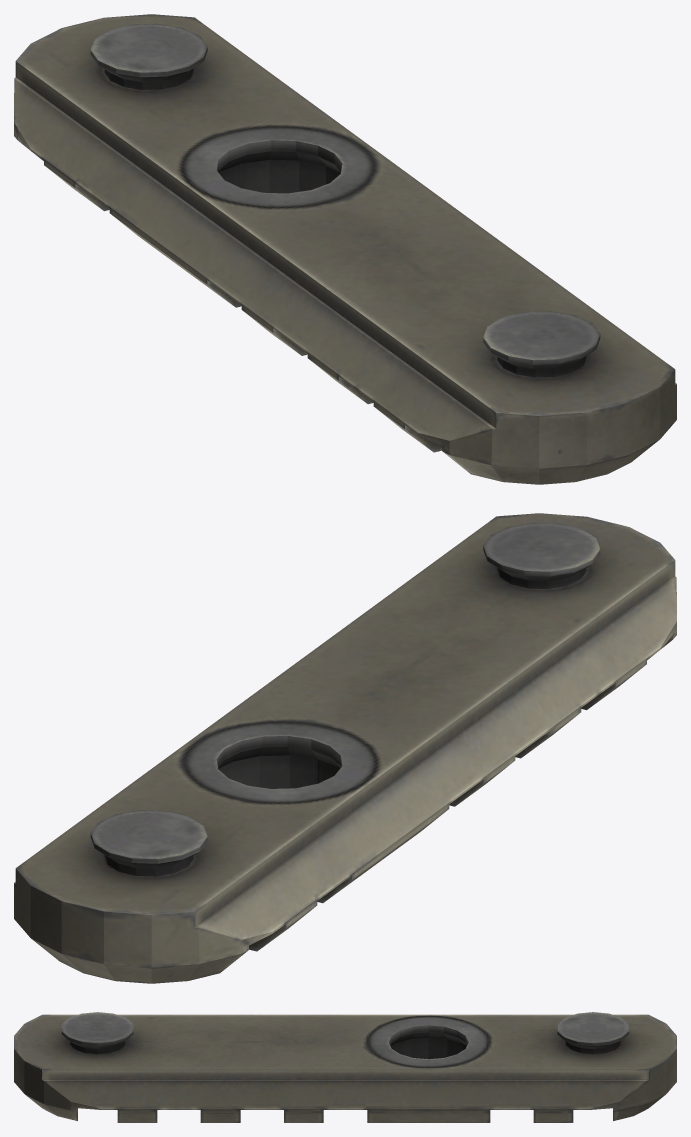
3 views of the same model, one above another, from view 1: azimuth 30°, elevation 25°; view 2: azimuth 150°, elevation 25°; view 3: azimuth 270°, elevation 25° (orthographic). The views are drawn at different scales.
Visible parts, largest first — view 1: TW_623c2f652febb22c2777d8d7_PZ_Import; view 2: TW_623c2f652febb22c2777d8d7_PZ_Import; view 3: TW_623c2f652febb22c2777d8d7_PZ_Import.
Boxes of the visible parts, left/top/right/bottom form: TW_623c2f652febb22c2777d8d7_PZ_Import: left=14, top=14, right=676, bottom=484; TW_623c2f652febb22c2777d8d7_PZ_Import: left=14, top=513, right=676, bottom=983; TW_623c2f652febb22c2777d8d7_PZ_Import: left=14, top=1012, right=676, bottom=1122.
Bounding box in the file's own units: 0.0123 × 0.0461 × 0.00513.
1 material, 1 textured.
